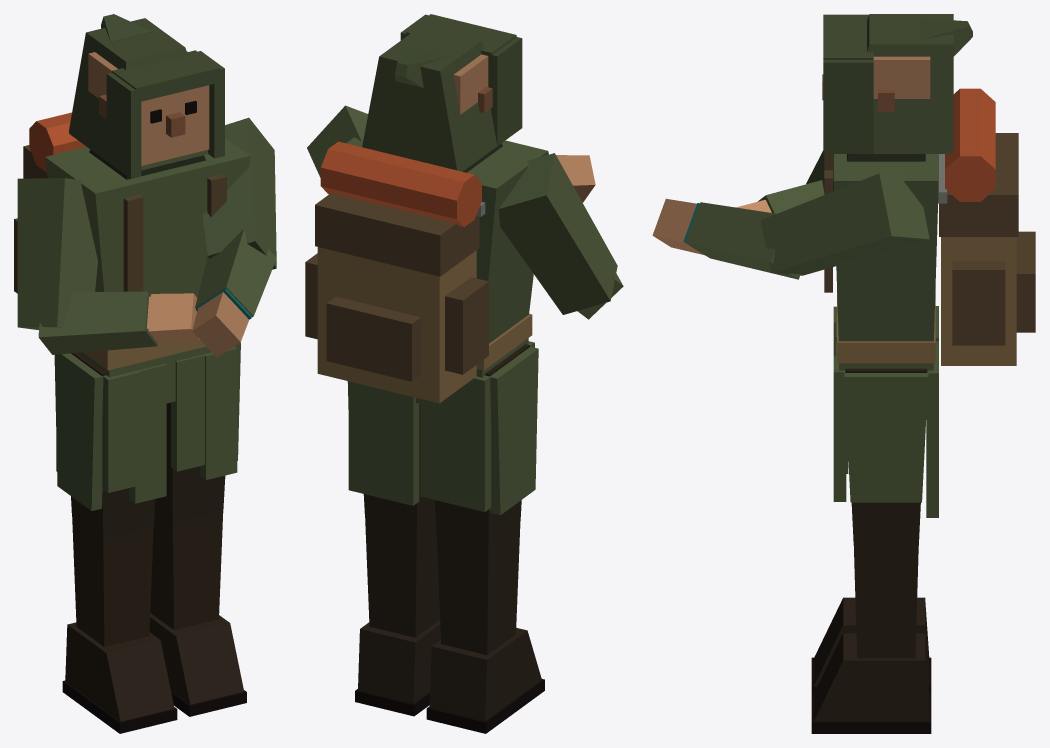
File: grunt_set_scav.glb
The picture shows the model from 3 angles, left to right: view 1: azimuth 30°, elevation 25°; view 2: azimuth 150°, elevation 25°; view 3: azimuth 270°, elevation 25°; orthographic projection. The views are drawn at different scales.
Parts seen in each view (by area): view 1: torso, head, leg_r_lower, coat_flap_r, leg_l_lower, arm_r, coat_flap_l, arm_r_lower, arm_l_lower, arm_l, leg_l, leg_r (+1 smaller); view 2: pack, head, leg_r_lower, coat_flap_r, leg_l_lower, arm_r, torso, coat_flap_l, leg_r, arm_l, leg_l, arm_l_lower; view 3: pack, head, leg_l_lower, torso, coat_flap_l, arm_l, arm_l_lower, leg_l, leg_r_lower, arm_r_lower.
Boxes of the visible parts, x1,y1,x2,y2 form: torso: (45,139,250,403); head: (69,14,224,178); leg_r_lower: (62,517,177,733); coat_flap_r: (54,353,166,510); leg_l_lower: (149,510,246,716); arm_r: (17,178,97,329); coat_flap_l: (171,342,240,479); arm_r_lower: (38,291,200,354); arm_l_lower: (192,228,276,357); arm_l: (202,117,276,269); leg_l: (154,402,225,522); leg_r: (71,353,155,539); pack: (305,141,488,403); head: (362,14,522,171); leg_r_lower: (426,522,544,733); coat_flap_r: (420,341,538,515); leg_l_lower: (355,514,440,716); arm_r: (498,153,617,314); torso: (346,137,548,403); coat_flap_l: (347,381,419,505); leg_r: (434,344,529,544); arm_l: (307,105,368,177); leg_l: (363,403,435,527); arm_l_lower: (548,152,595,202); pack: (938,88,1035,365); head: (822,14,972,153); leg_l_lower: (811,545,931,733); torso: (824,154,938,370); coat_flap_l: (833,341,938,517); arm_l: (760,173,929,275); arm_l_lower: (652,198,800,279); leg_l: (845,368,927,545); leg_r_lower: (811,597,931,693); arm_r_lower: (736,180,824,213).
Size of the model in its own units: 0.7929 by 1.78 by 0.9112.
